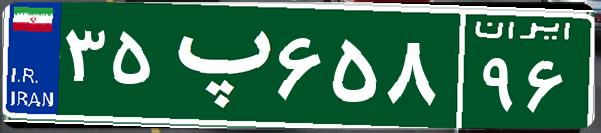3: (57, 26, 110, 107)
5: (330, 28, 385, 110), (110, 28, 158, 105)
6: (273, 28, 330, 110), (525, 38, 570, 115)
8: (385, 28, 445, 110)
9: (475, 38, 525, 113)
پ: (158, 15, 273, 115)
